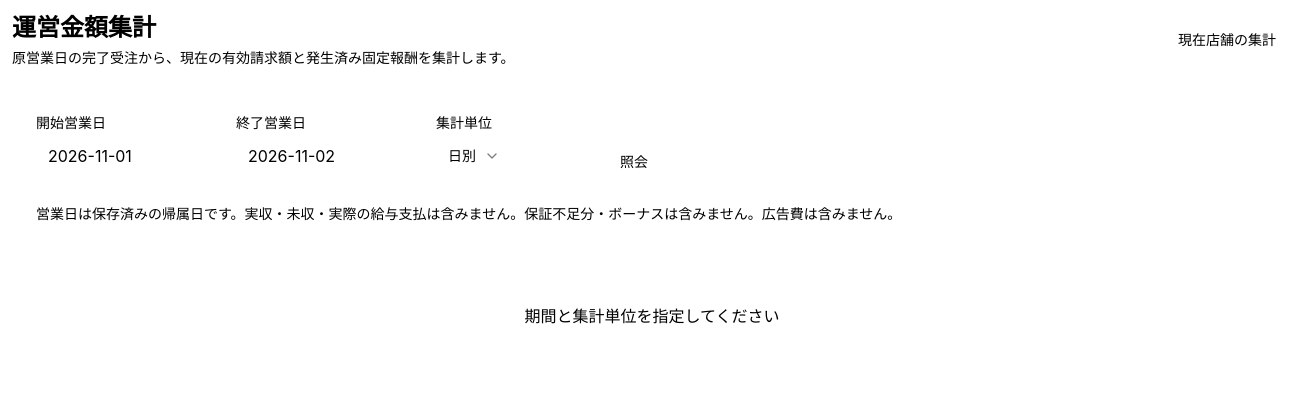
invalid period is shown next to fields without sending request
Replace the text in the field labelled "開始営業日" with "2026-02-30" at [124, 156], box top-left (36, 138), bottom-right (212, 174)
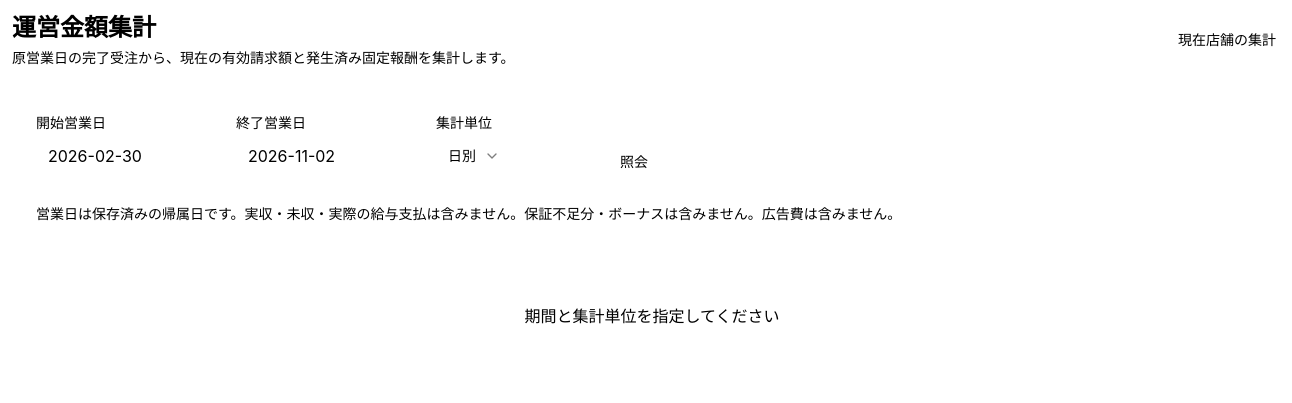
Click the button "照会" at [634, 162], box top-left (604, 144), bottom-right (664, 180)
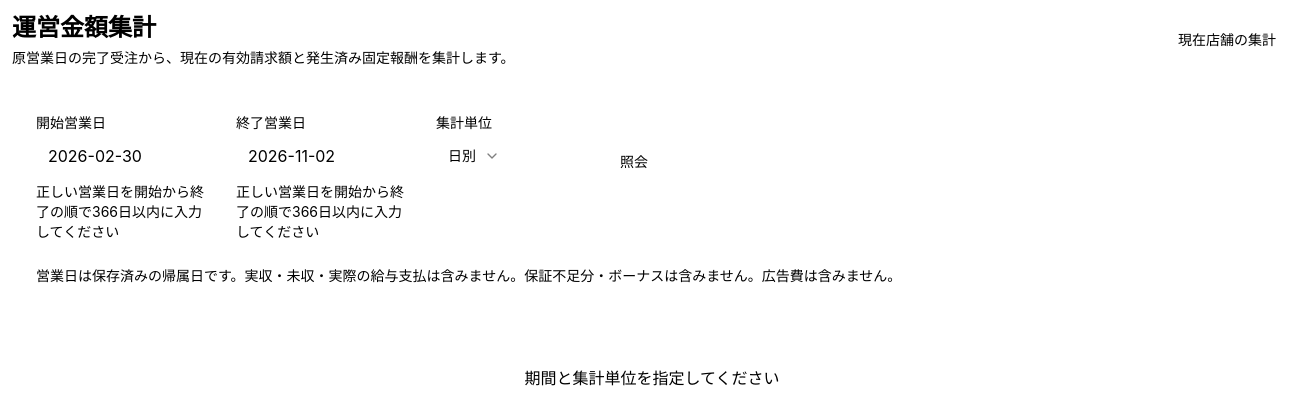
Now the text "正しい営業日を開始から終了の順で366日以内に入力してください" below "開始営業日" is shown, box top-left (36, 183), bottom-right (204, 240)
